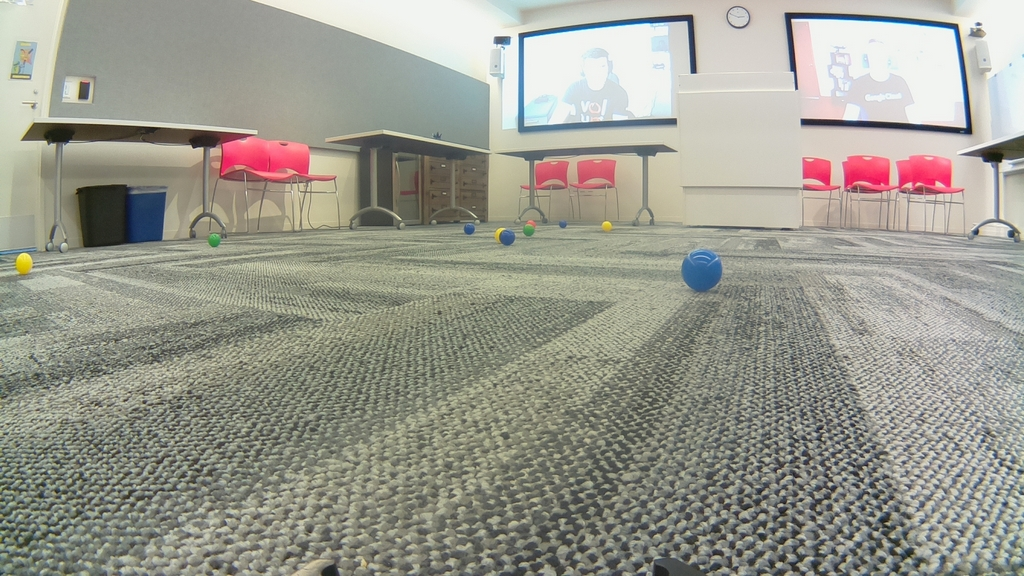ball: (499, 229, 514, 245)
